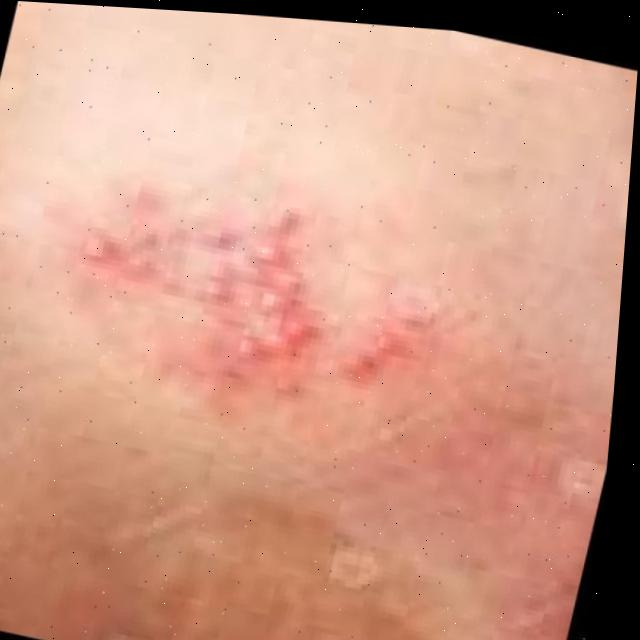Shingles: (66, 190, 435, 387)
